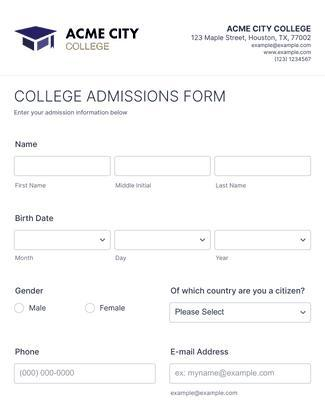dropdown: (169, 302, 313, 325), (14, 230, 113, 252), (115, 230, 212, 252), (215, 231, 313, 252)
input: (169, 363, 313, 386), (14, 365, 157, 386), (214, 156, 313, 178), (114, 156, 212, 178), (14, 156, 113, 177)
label: (13, 89, 227, 105), (170, 286, 307, 297), (170, 348, 229, 357), (15, 214, 56, 223), (15, 287, 45, 296), (14, 140, 38, 150), (15, 348, 40, 357), (100, 305, 127, 313), (29, 305, 48, 313)
radio: (85, 303, 97, 314), (15, 304, 26, 315)
